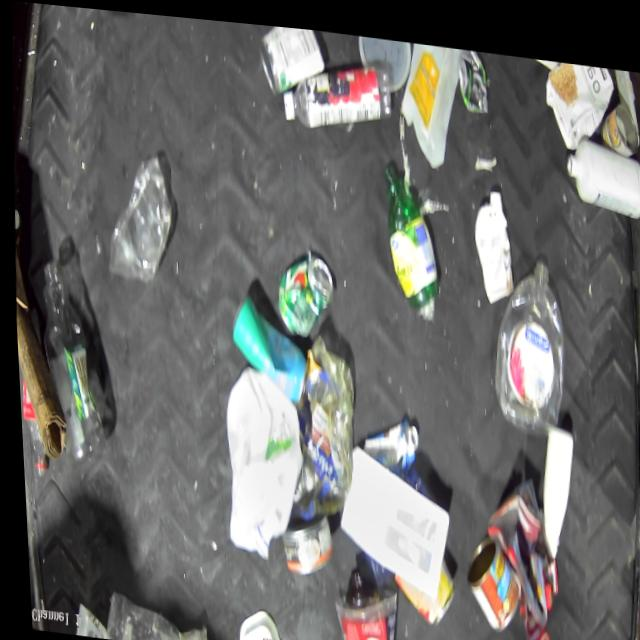can: (223, 295, 310, 398), (455, 527, 517, 626), (269, 245, 329, 343), (272, 498, 332, 578)
milk_jug: (214, 368, 301, 554)
plastic_bottle: (484, 244, 567, 430), (34, 270, 103, 466)
